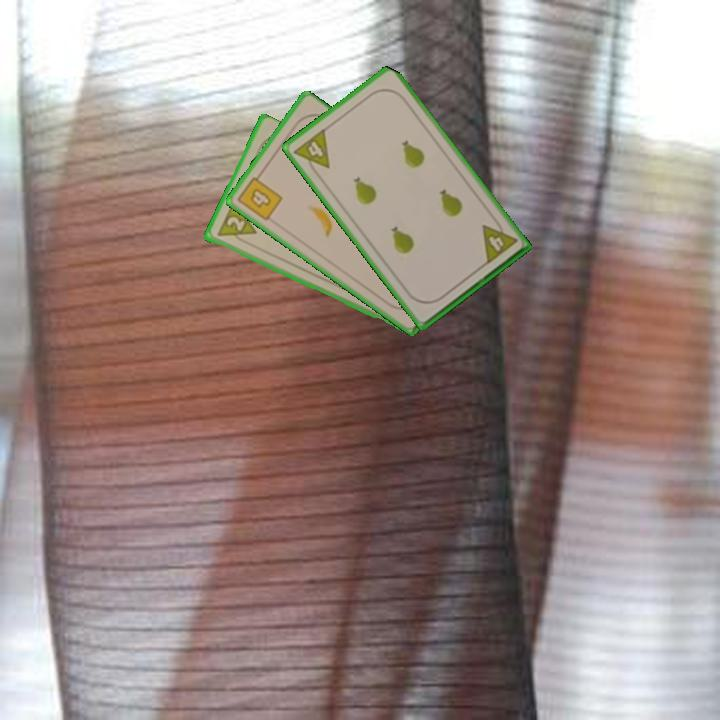2p: (213, 199, 259, 249)
4b: (234, 168, 285, 224)
4p: (290, 125, 333, 179), (478, 214, 520, 267)
